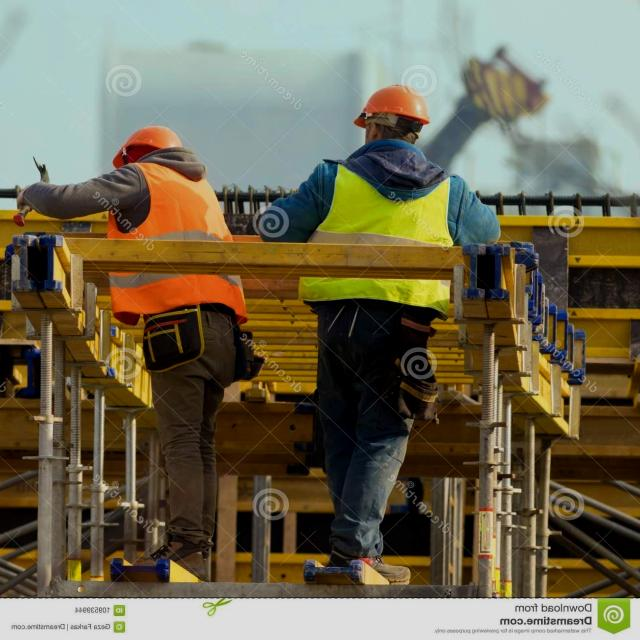head_helmet: (354, 85, 442, 119), (106, 128, 182, 166)
person: (303, 81, 465, 575), (108, 127, 219, 529)
vest: (293, 167, 462, 301), (104, 165, 216, 319)
